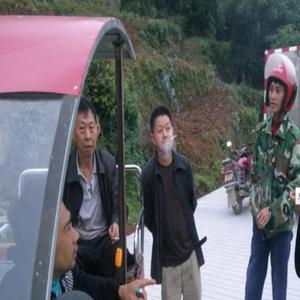cigarette: (168, 135, 177, 142)
